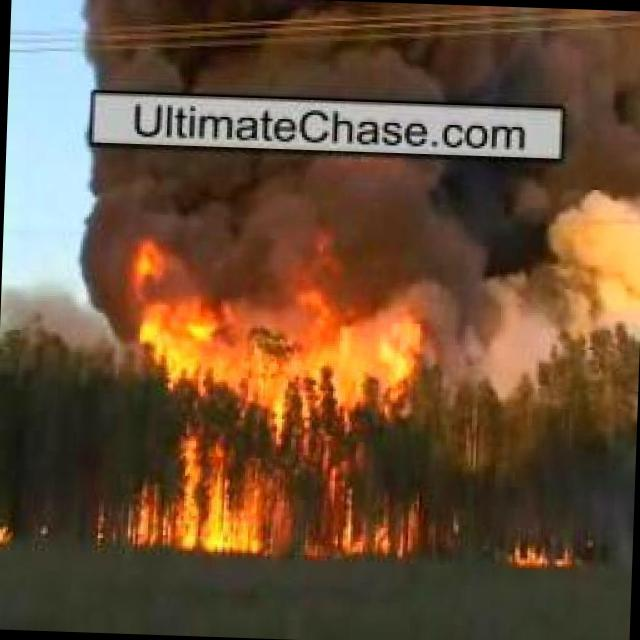Fire: (124, 239, 438, 556), (508, 542, 582, 570), (0, 517, 17, 544)
Smoke: (82, 143, 640, 260), (74, 0, 640, 105)
